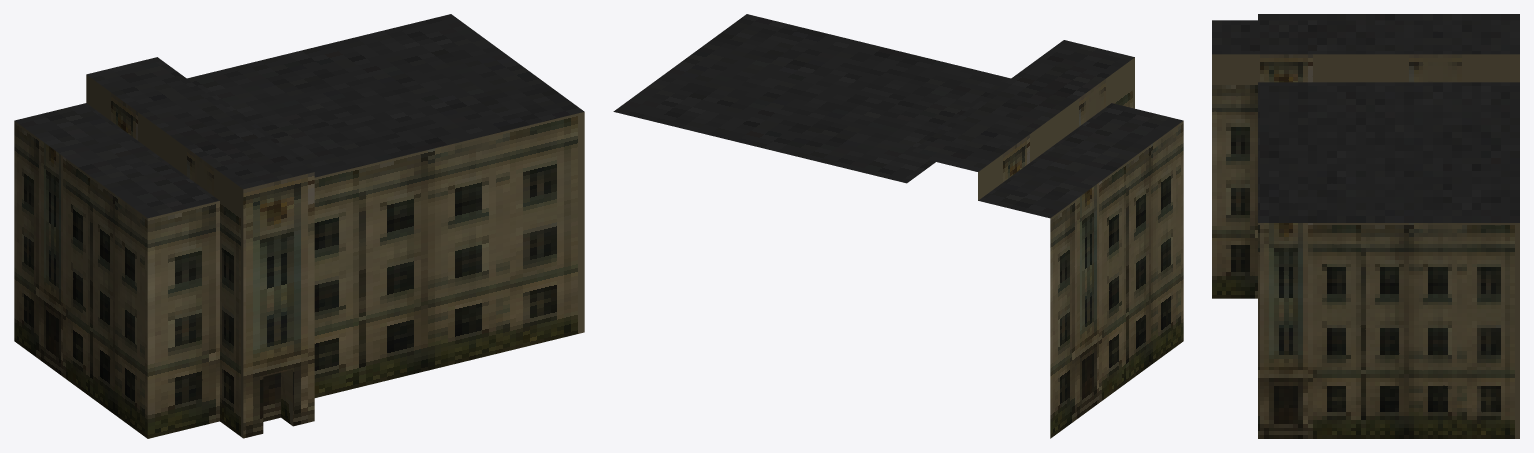
File: env_bld_civic_normal.glb
3 renders of one model, left to right at view 1: azimuth 30°, elevation 25°; view 2: azimuth 150°, elevation 25°; view 3: azimuth 270°, elevation 25°, orthographic. The views are drawn at different scales.
Visible parts, largest first — view 1: env_bld_civic_normal; view 2: env_bld_civic_normal; view 3: env_bld_civic_normal.
Part boxes in pixels (x1,y1,x2,y2): env_bld_civic_normal: (14, 14, 584, 438); env_bld_civic_normal: (613, 14, 1183, 438); env_bld_civic_normal: (1212, 14, 1519, 438).
Size of the model in its own units: 0.049 by 0.0267 by 0.0305.
2 materials, 2 textured.
